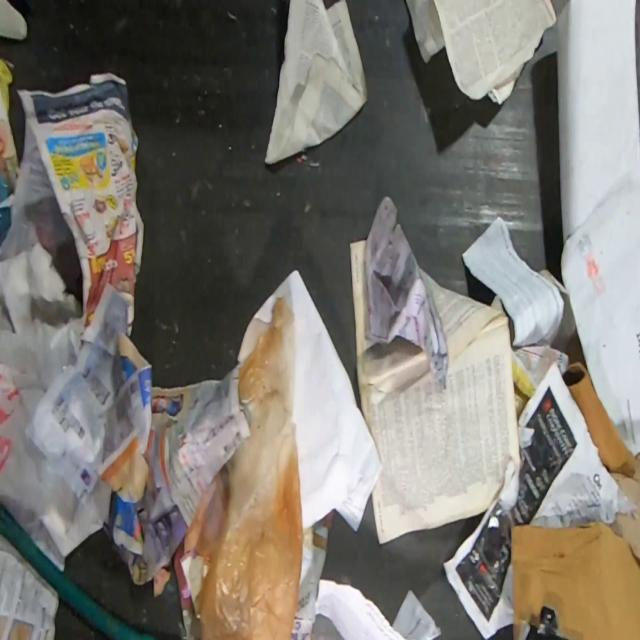cardboard: (510, 519, 640, 640), (561, 361, 640, 484)
soft_plastic: (174, 283, 303, 640), (0, 319, 76, 532)
